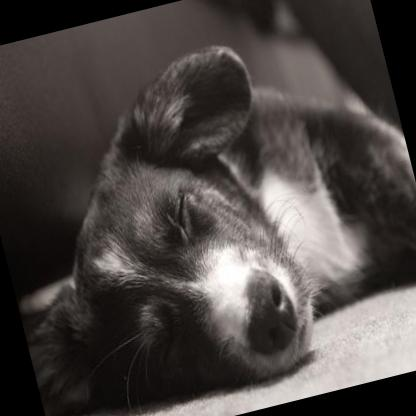Cardigan: (0, 5, 416, 416)
